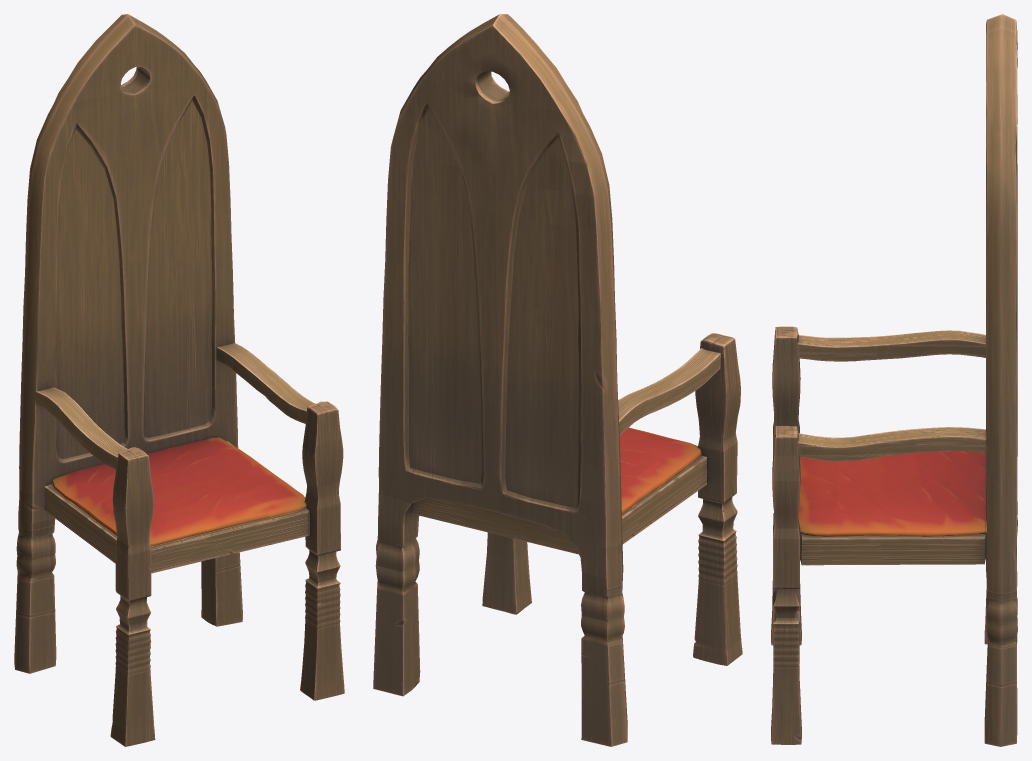
File: SM_Chair_Noble_01.fbx
3 views of the same model, side by side, from view 1: azimuth 30°, elevation 25°; view 2: azimuth 150°, elevation 25°; view 3: azimuth 270°, elevation 25° (orthographic). The views are drawn at different scales.
Visible parts, largest first — view 1: SM_Chair_Noble_01_LOD0; view 2: SM_Chair_Noble_01_LOD0; view 3: SM_Chair_Noble_01_LOD0.
Boxes of the visible parts, <box> form: SM_Chair_Noble_01_LOD0: <box>14,14,344,746</box>; SM_Chair_Noble_01_LOD0: <box>373,14,742,746</box>; SM_Chair_Noble_01_LOD0: <box>771,14,1017,746</box>.
Size of what is drawn, in the model's own units: 0.8848 by 2.33 by 0.7742.
